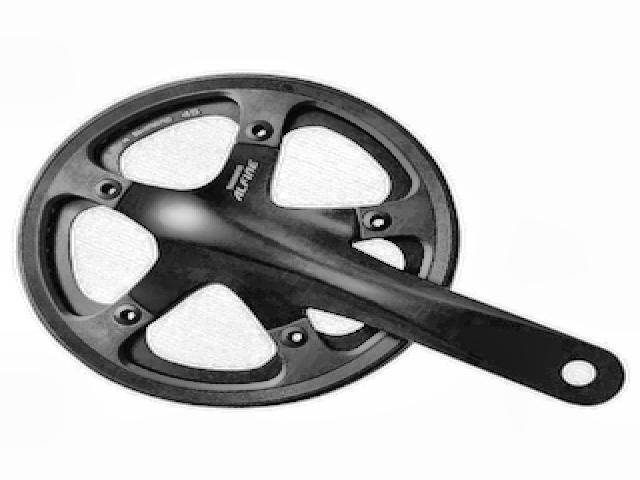cranks_set: (13, 66, 627, 417)
